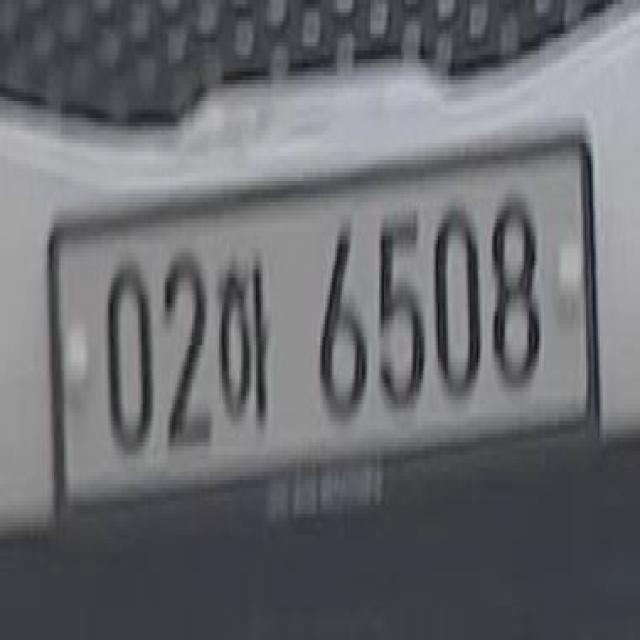illegal_plate: (55, 129, 602, 531)
